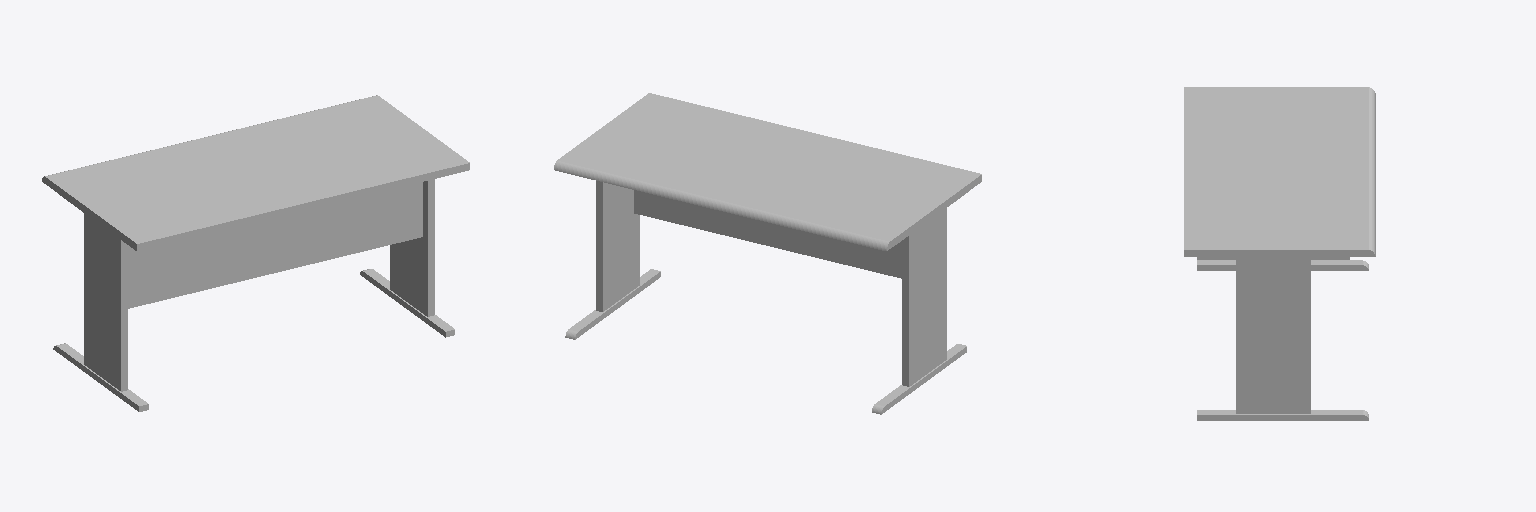
The model's file is Computer_Desk.obj.
The picture shows the model from 3 angles: view 1: azimuth 30°, elevation 25°; view 2: azimuth 150°, elevation 25°; view 3: azimuth 270°, elevation 25°; orthographic projection.
Visible parts, largest first — view 1: Computer_Desk; view 2: Computer_Desk; view 3: Computer_Desk.
Boxes of the visible parts, x1=… form: Computer_Desk: x1=42, y1=95, x2=469, y2=411; Computer_Desk: x1=554, y1=93, x2=981, y2=414; Computer_Desk: x1=1184, y1=87, x2=1375, y2=420.
Bounding box in the file's own units: 150 × 75.56 × 74.93.